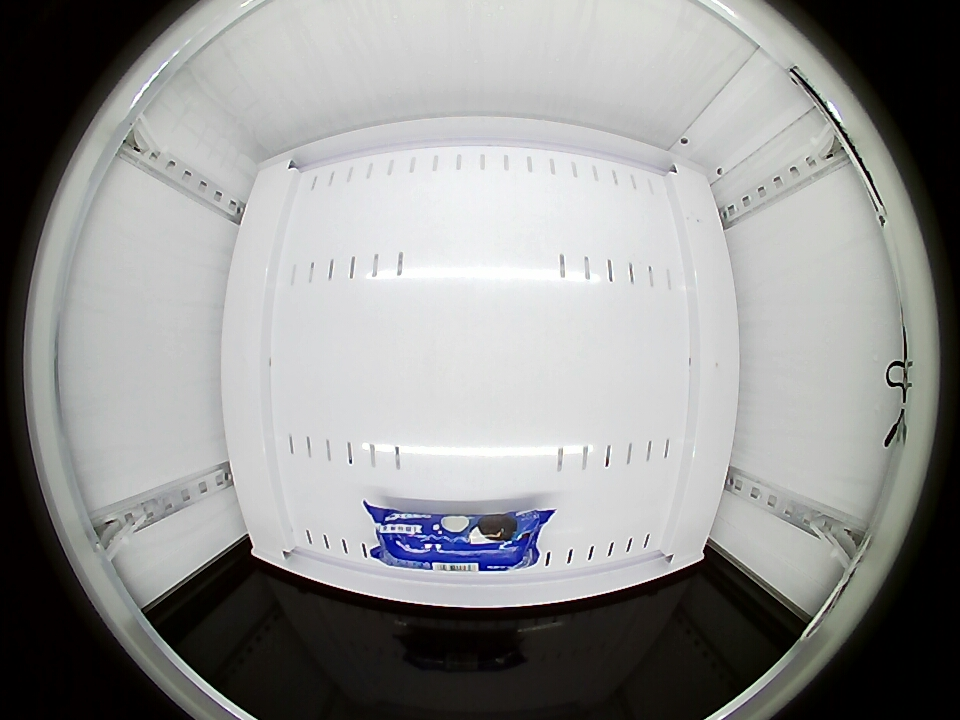aoliao: (371, 504, 546, 571)
